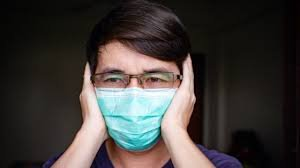mask: (84, 18, 180, 154)
